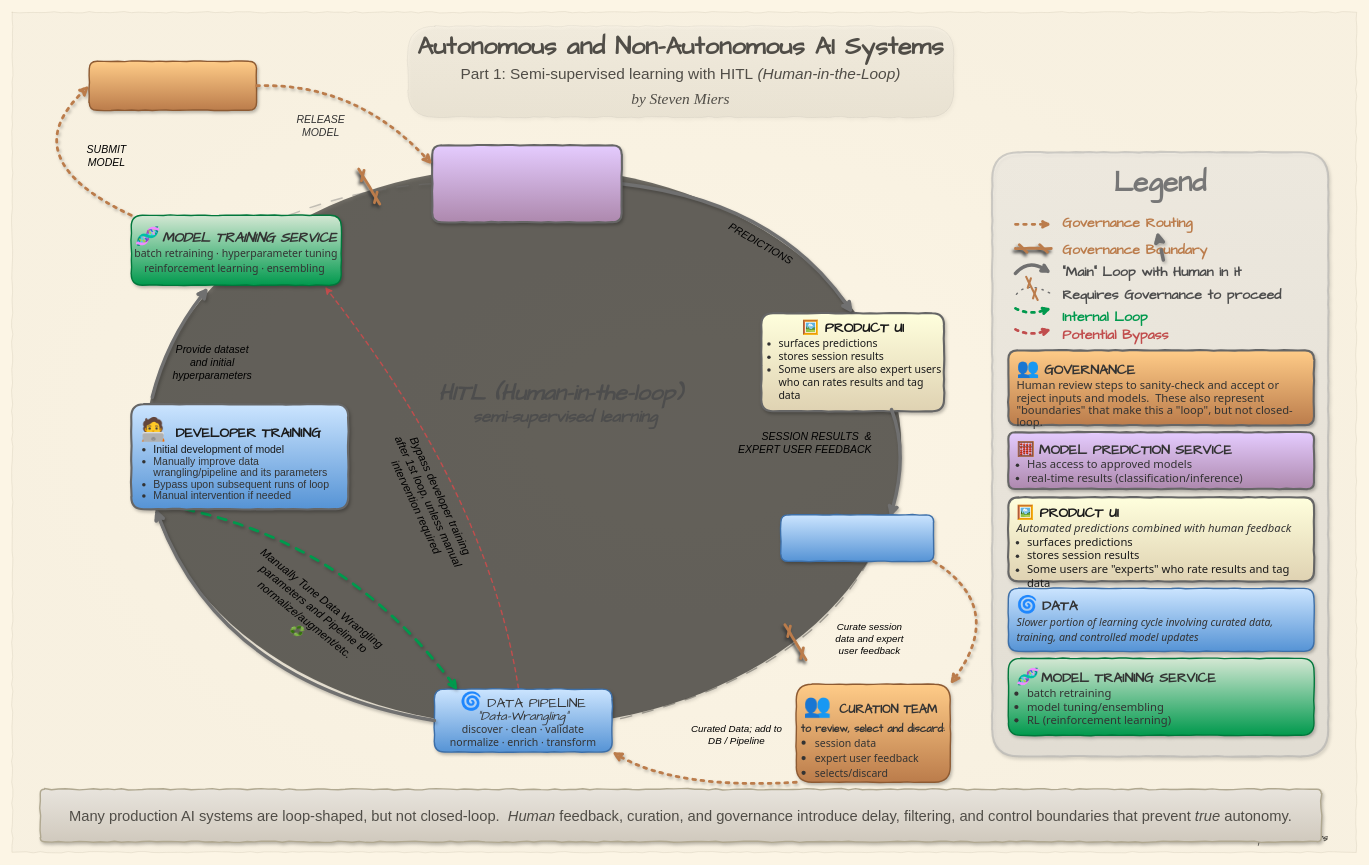
This 1369x865 diagram has some shape labels left out. Here are the shapes that lost their labels. From the top down, the centre of each, then its label:
the point at 173,86: 👥 Model Governance Team validates · approves release
the point at 527,184: 🧮 MODEL PREDICTION SERVICE real-time results (classification/ inference )
the point at 857,539: 📑 DATA / OUTCOME PostgreSQL · Neo4j
